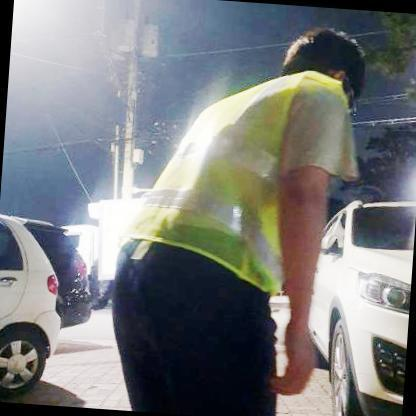no-helmet: (289, 19, 370, 97)
vest: (114, 50, 353, 310)
